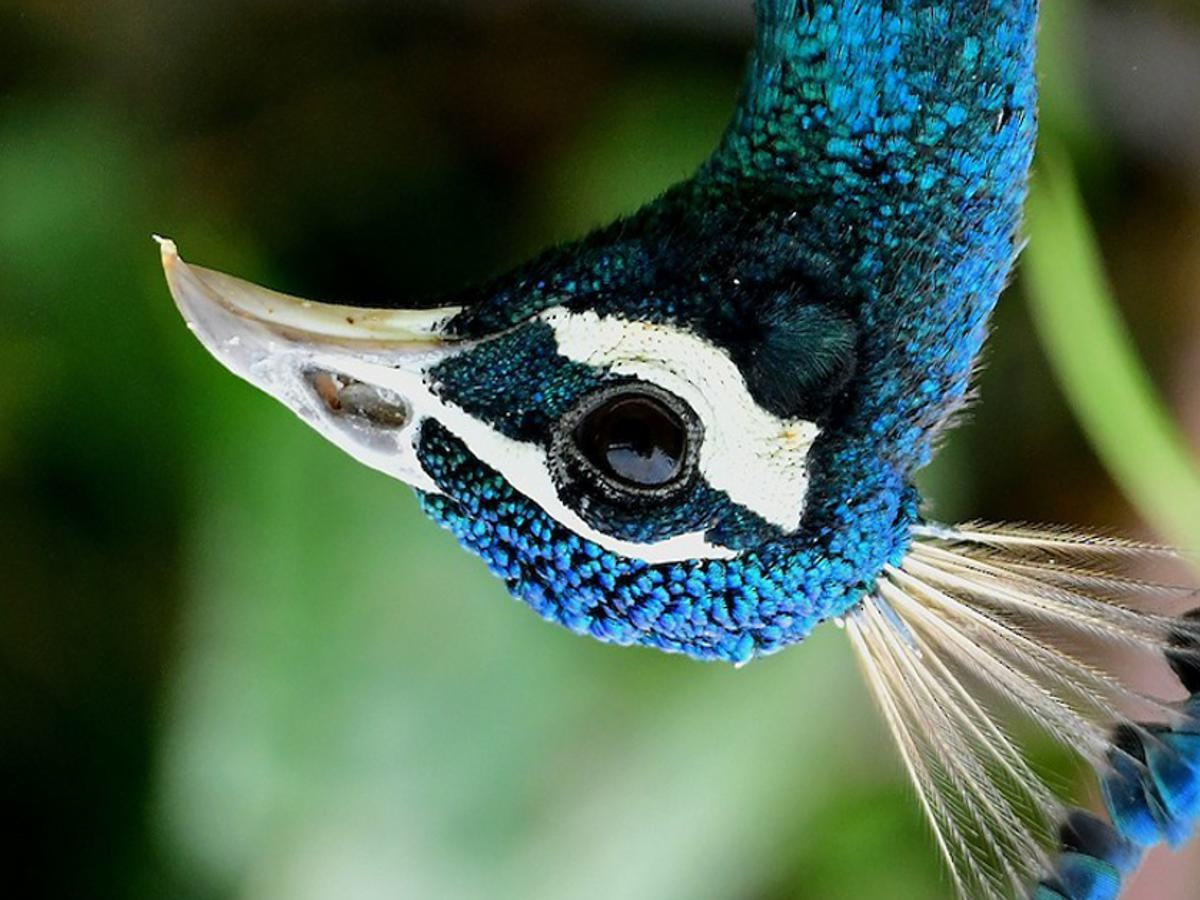peacock: (115, 13, 1086, 791)
